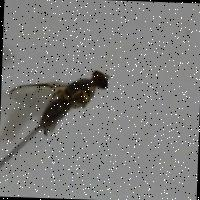Oriental-fruit-fly: (0, 45, 119, 149)
